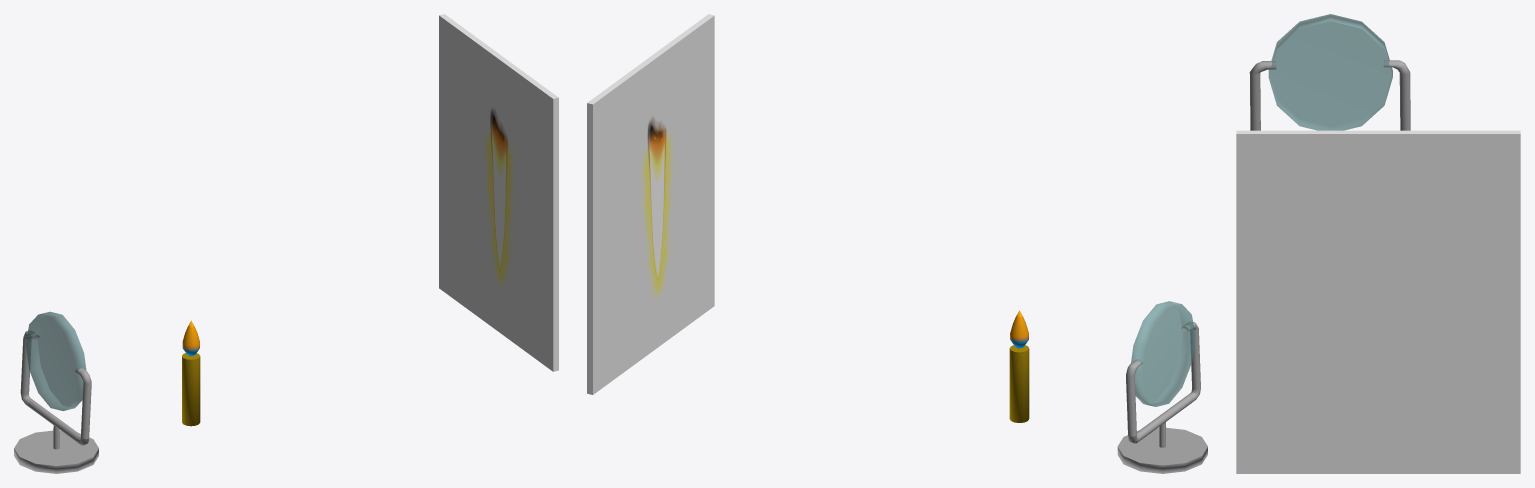
File: second.fbx
The picture shows the model from 3 angles, left to right: view 1: azimuth 30°, elevation 25°; view 2: azimuth 150°, elevation 25°; view 3: azimuth 270°, elevation 25°; orthographic projection. The views are drawn at different scales.
Visible parts, largest first — view 1: pCube7, pCylinder29, pCylinder31; view 2: pCube7, pCylinder29, pCylinder31; view 3: pCube7, pCylinder29.
Part boxes in pixels (box(x1,y1,x2,y2)): pCube7: box(439, 14, 558, 371); pCylinder29: box(14, 311, 98, 473); pCylinder31: box(182, 320, 200, 426); pCube7: box(587, 14, 714, 394); pCylinder29: box(1117, 301, 1207, 473); pCylinder31: box(1009, 310, 1029, 422); pCube7: box(1236, 130, 1520, 473); pCylinder29: box(1249, 14, 1410, 130).
Bounding box in the file's own units: 82.99 × 43.19 × 32.77.
Materials: 4 (2 with a texture image).
